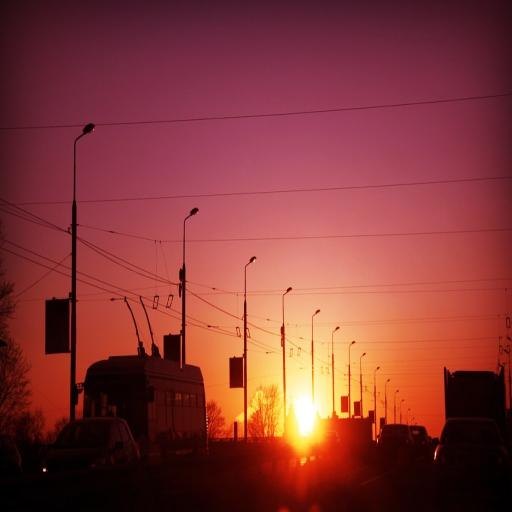off street light: (64, 111, 105, 303), (174, 200, 202, 361), (237, 244, 261, 359), (280, 282, 293, 374), (307, 308, 320, 378)
